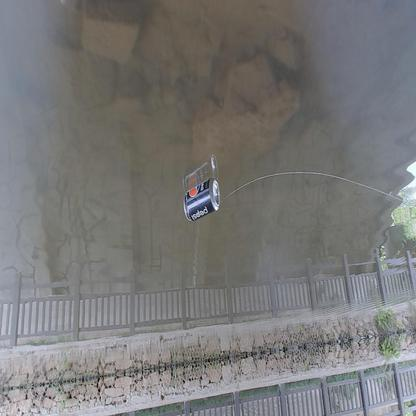can: (183, 178, 222, 223)
